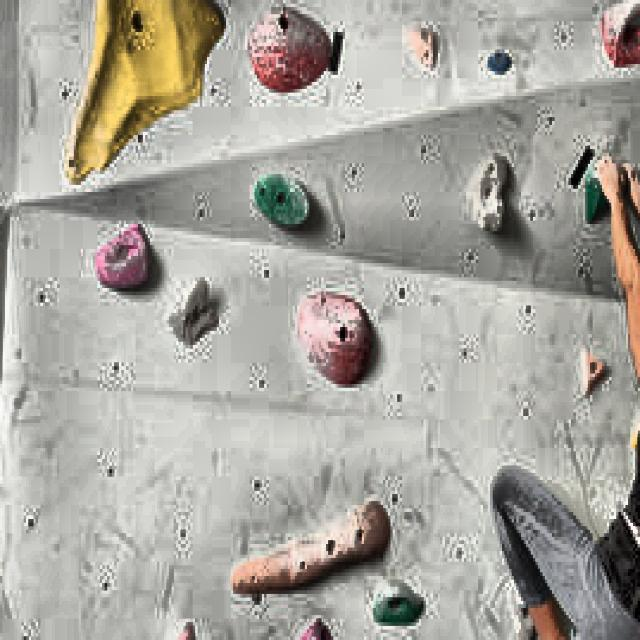Hold: (231, 501, 390, 594), (247, 7, 331, 92), (297, 292, 371, 384), (95, 224, 150, 292), (469, 156, 512, 235), (171, 281, 219, 345), (255, 174, 309, 228), (600, 0, 640, 68), (374, 583, 426, 626), (407, 28, 438, 71), (583, 348, 609, 398), (488, 50, 512, 75), (171, 622, 194, 640)
Macro: (64, 0, 224, 185)
Unknown: (585, 171, 609, 224)
start_tag: (570, 147, 593, 188), (329, 31, 343, 72)
